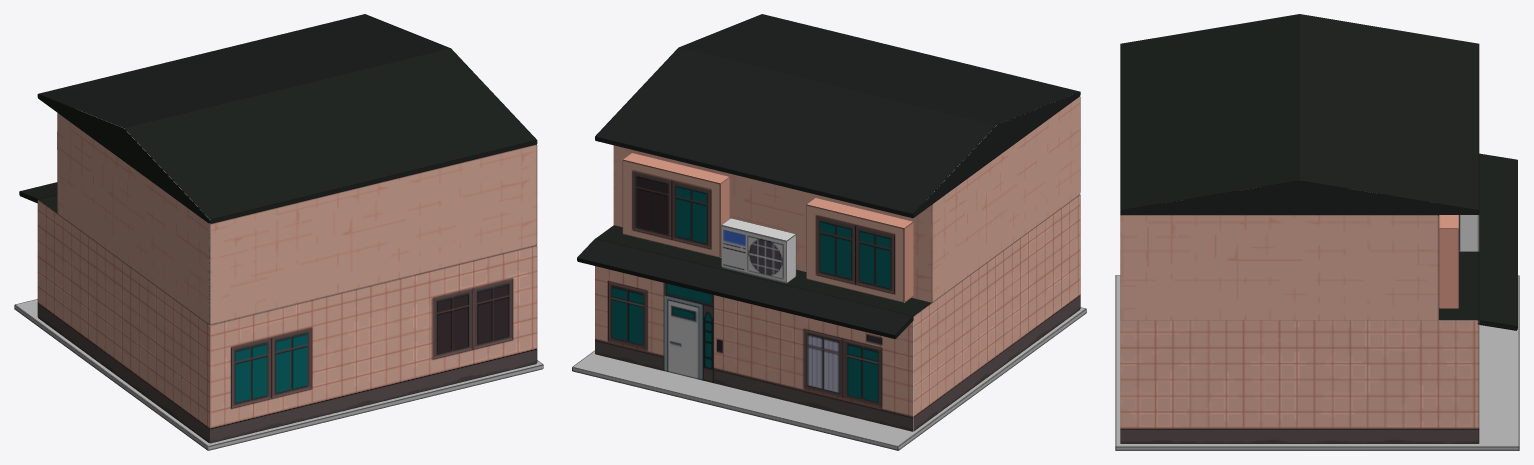
The model's file is twofloorwide.fbx.
3 views of the same model, side by side, from view 1: azimuth 30°, elevation 25°; view 2: azimuth 150°, elevation 25°; view 3: azimuth 270°, elevation 25° (orthographic). The views are drawn at different scales.
Parts seen in each view (by area): view 1: group, plane; view 2: group, plane; view 3: group, plane.
Part boxes in pixels (box(x1,y1,x2,y2)): group: box(19, 14, 537, 443); plane: box(14, 299, 543, 450); group: box(577, 14, 1080, 431); plane: box(572, 307, 1086, 450); group: box(1120, 14, 1517, 443); plane: box(1115, 275, 1519, 450).
Bounding box in the file's own units: 1000 × 731 × 1000.
Materials: 1 (1 with a texture image).
